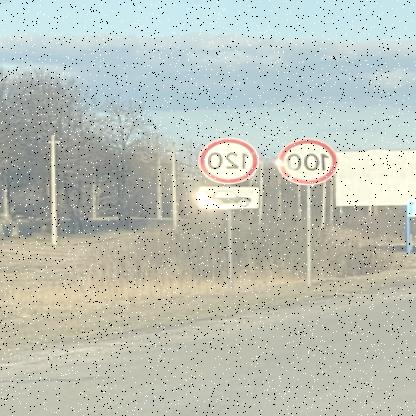speedlimit: (280, 138, 340, 185), (202, 136, 263, 182)
